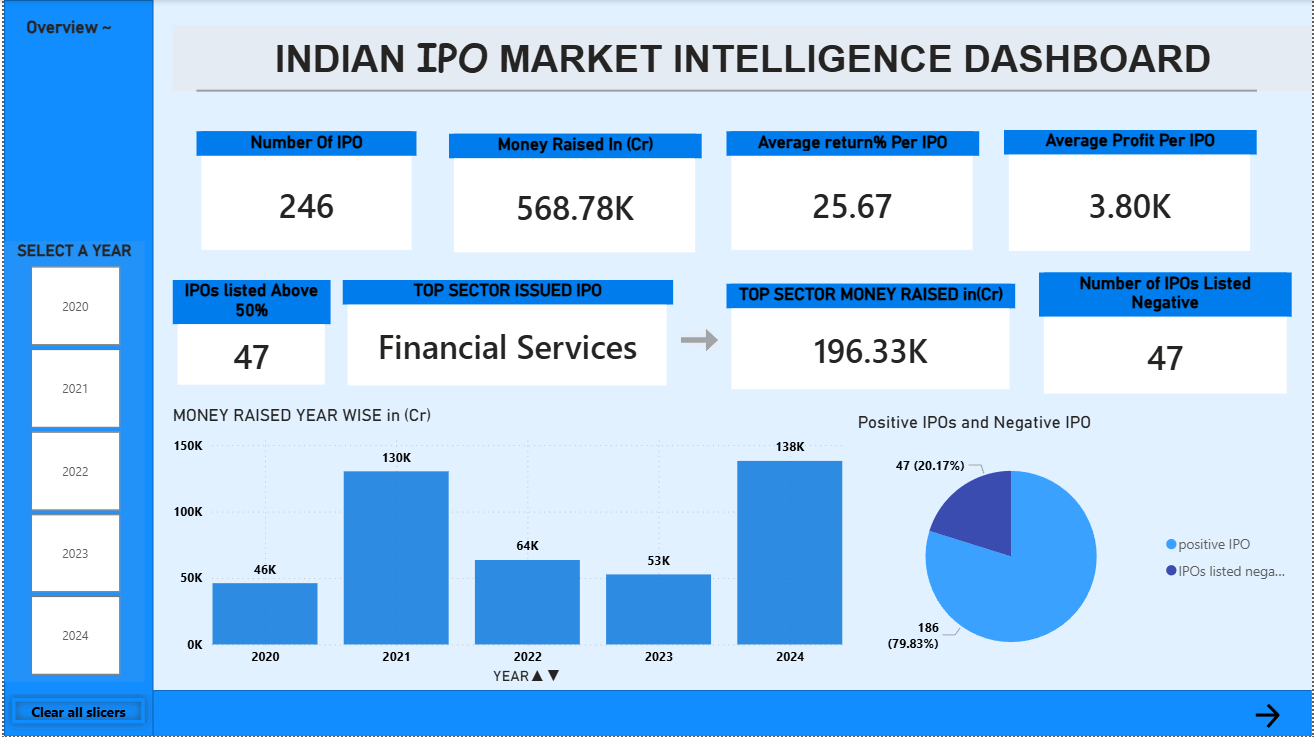

What the dashboard file says about the page in this screenshot:
{"tool":"powerbi","page":{"name":"Overview","canvas":[1280,720],"ordinal":0},"visuals":[{"type":"shape","box":[146.1,674.8,1133.9,45.9],"z":0},{"type":"textbox","box":[164.7,24.7,1115.6,64.5],"z":1000},{"type":"shape","box":[188,49.4,1037.4,79.6],"z":2000},{"type":"cardVisual","title":"Number Of IPO ","fields":{"Data":["Count(Table 1 (data for analysis).Company Name▲▼)"]},"box":[188,129,215.4,122.1],"z":3000},{"type":"cardVisual","title":"Money Raised In (Cr)","fields":{"Data":["Sum(Table 1 (data for analysis).IPO Size in ▲▼)"]},"box":[435,130.4,247,122.1],"z":4000},{"type":"cardVisual","title":"Average return% Per IPO","fields":{"Data":["Avg(Table 1 (data for analysis).Listing Percentage▲▼)"]},"box":[706.7,129,247,122.1],"z":5000},{"type":"cardVisual","title":"Average Profit Per IPO","fields":{"Data":["Avg(Table 1 (data for analysis).LISTING DAY P/L ₹▲▼)"]},"box":[978.4,127.6,247,123.5],"z":6000},{"type":"cardVisual","title":"TOP SECTOR ISSUED IPO","fields":{"Data":["Table 1 (data for analysis).top sector"]},"box":[331.4,273.9,322.8,108.8],"z":8000},{"type":"cardVisual","title":"TOP SECTOR MONEY RAISED in(Cr)","fields":{"Data":["Table 1 (data for analysis).funds raised by top sector"]},"box":[706.8,277.6,282.5,108.8],"z":10000},{"type":"shape","box":[654.2,313,52.6,39.1],"z":11000},{"type":"cardVisual","title":"Number of IPOs Listed Negative","fields":{"Data":["Table 1 (data for analysis).IPOs listed negative"]},"box":[1012.5,266.6,247,123.5],"z":12000},{"type":"cardVisual","title":"IPOs listed Above 50%","fields":{"Data":["Table 1 (data for analysis).IPO LISTED ABOVE 50%"]},"box":[165.1,273.9,154.1,107.6],"z":13000},{"type":"columnChart","title":"MONEY RAISED YEAR WISE in (Cr)","fields":{"Y":["Sum(Table 1 (data for analysis).IPO Size in ▲▼)"],"Category":["Table 1 (data for analysis).YEAR▲▼"]},"box":[160,396.5,665,278.3],"z":14000},{"type":"pieChart","title":"Positive IPOs and Negative IPO","fields":{"Y":["Table 1 (data for analysis).positive IPO","Table 1 (data for analysis).IPOs listed negative"]},"box":[830.3,402.3,440.2,265.4],"z":15000},{"type":"actionButton","box":[1214.3,679.9,45.2,40.4],"z":16000},{"type":"shape","box":[0,0,146.1,720.7],"z":17000},{"type":"textbox","box":[16.7,11.1,121,29.2],"z":18000},{"type":"slicer","title":"SELECT A YEAR","fields":{"Values":["Table 1 (data for analysis).YEAR▲▼"]},"box":[0,236.5,137.7,431.3],"z":18500},{"type":"actionButton","box":[0,675,145.5,40.4],"z":19000}]}

Visuals, with their boxes in screenshot pixels (x1, y1, x2, y2), scaled from the page's 1280x720 canvas onto the 1314x737 screenshot:
shape: l=150, t=691, r=1313, b=736
textbox: l=169, t=25, r=1313, b=91
shape: l=193, t=51, r=1258, b=132
"Number Of IPO " cardVisual: l=193, t=132, r=414, b=257
"Money Raised In (Cr)" cardVisual: l=447, t=133, r=700, b=258
"Average return% Per IPO" cardVisual: l=725, t=132, r=979, b=257
"Average Profit Per IPO" cardVisual: l=1004, t=131, r=1258, b=257
"TOP SECTOR ISSUED IPO" cardVisual: l=340, t=280, r=672, b=392
"TOP SECTOR MONEY RAISED in(Cr)" cardVisual: l=726, t=284, r=1016, b=396
shape: l=672, t=320, r=726, b=360
"Number of IPOs Listed Negative" cardVisual: l=1039, t=273, r=1293, b=399
"IPOs listed Above 50%" cardVisual: l=169, t=280, r=328, b=391
"MONEY RAISED YEAR WISE in (Cr)" columnChart: l=164, t=406, r=847, b=691
"Positive IPOs and Negative IPO" pieChart: l=852, t=412, r=1304, b=683
actionButton: l=1247, t=696, r=1293, b=736
shape: l=0, t=0, r=150, b=736
textbox: l=17, t=11, r=141, b=41
"SELECT A YEAR" slicer: l=0, t=242, r=141, b=684
actionButton: l=0, t=691, r=149, b=732
